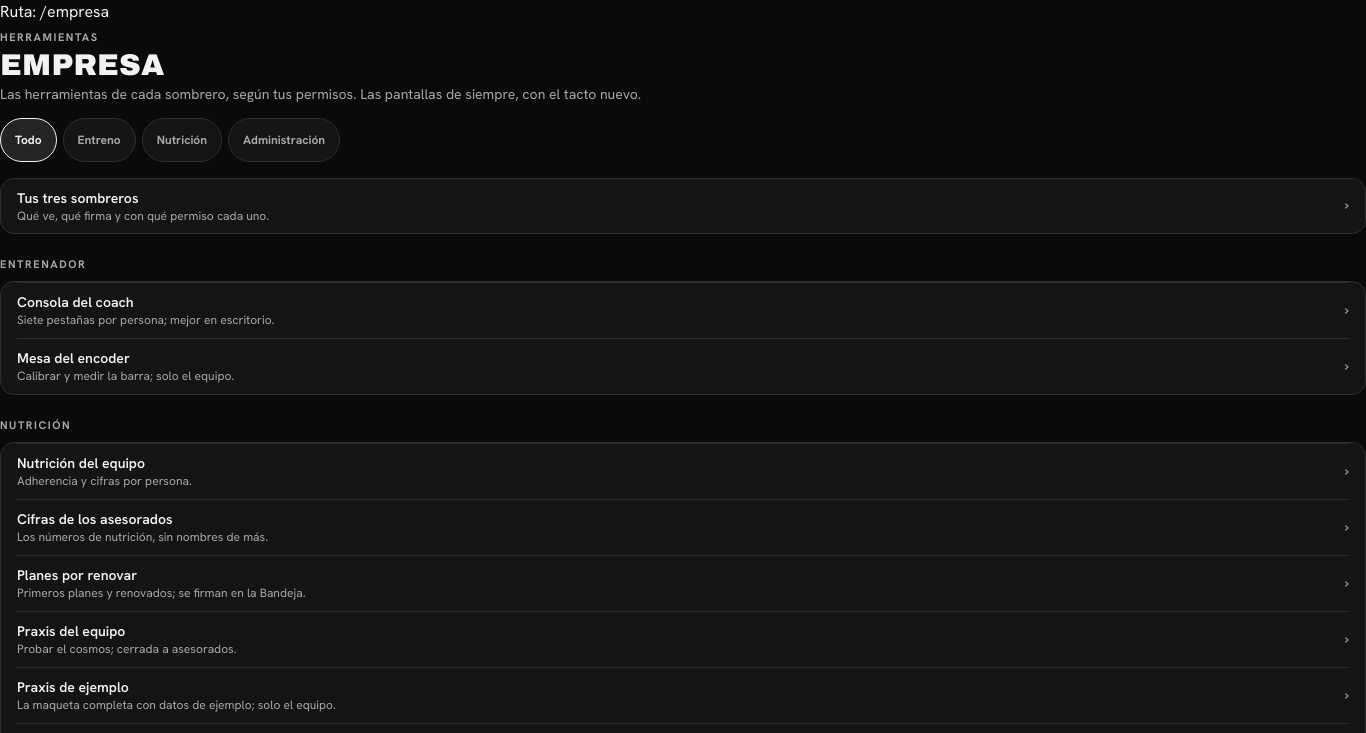
Scenario: la pantalla Empresa › «Tus tres sombreros» abre la hoja con lo que firma cada uno y el permiso
The image size is (1366, 733).
Click the button "Tus tres sombreros". click: click(78, 198)
box: [0,178,1365,234]
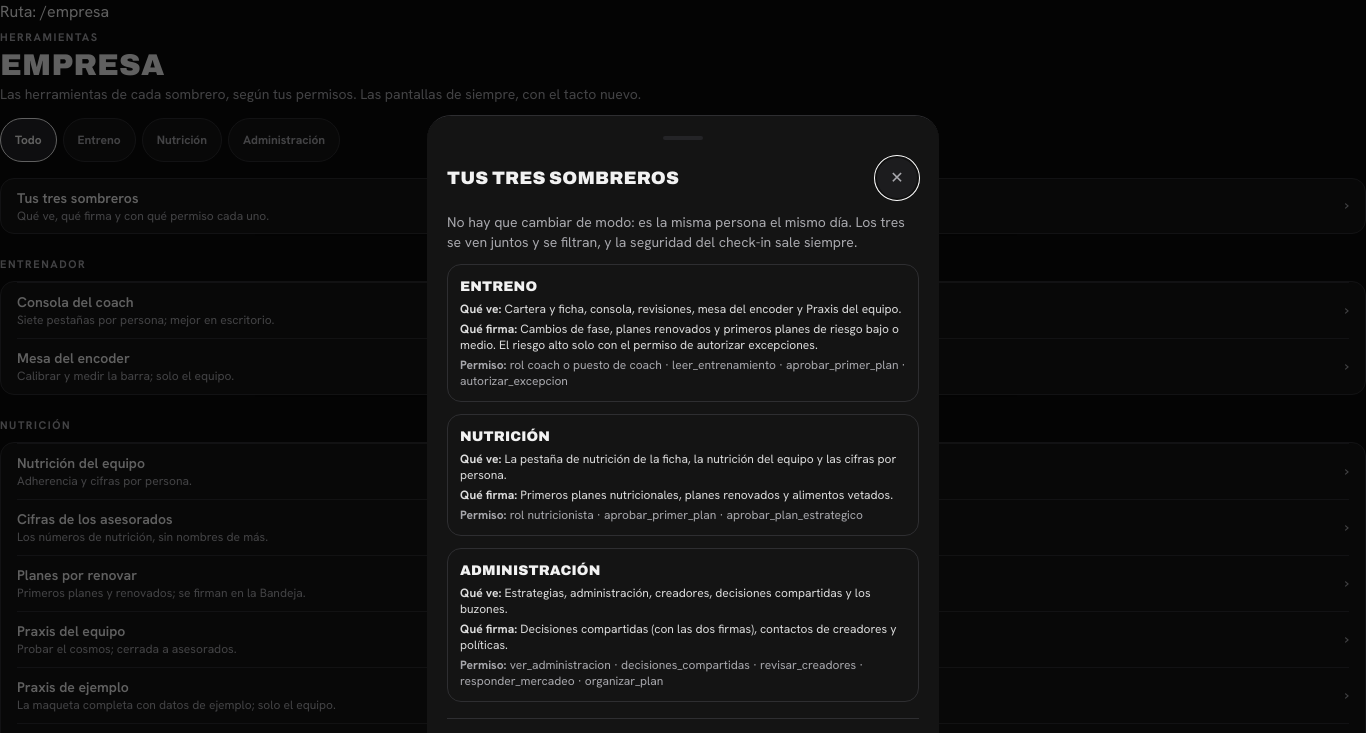
Check: the dialog "Tus tres sombreros" shows "Entreno", box [460,279,537,294]
Check: the dialog "Tus tres sombreros" shows "Nutrición", box [460,429,550,444]
Check: the dialog "Tus tres sombreros" shows "riesgo alto", box [460,321,899,353]
